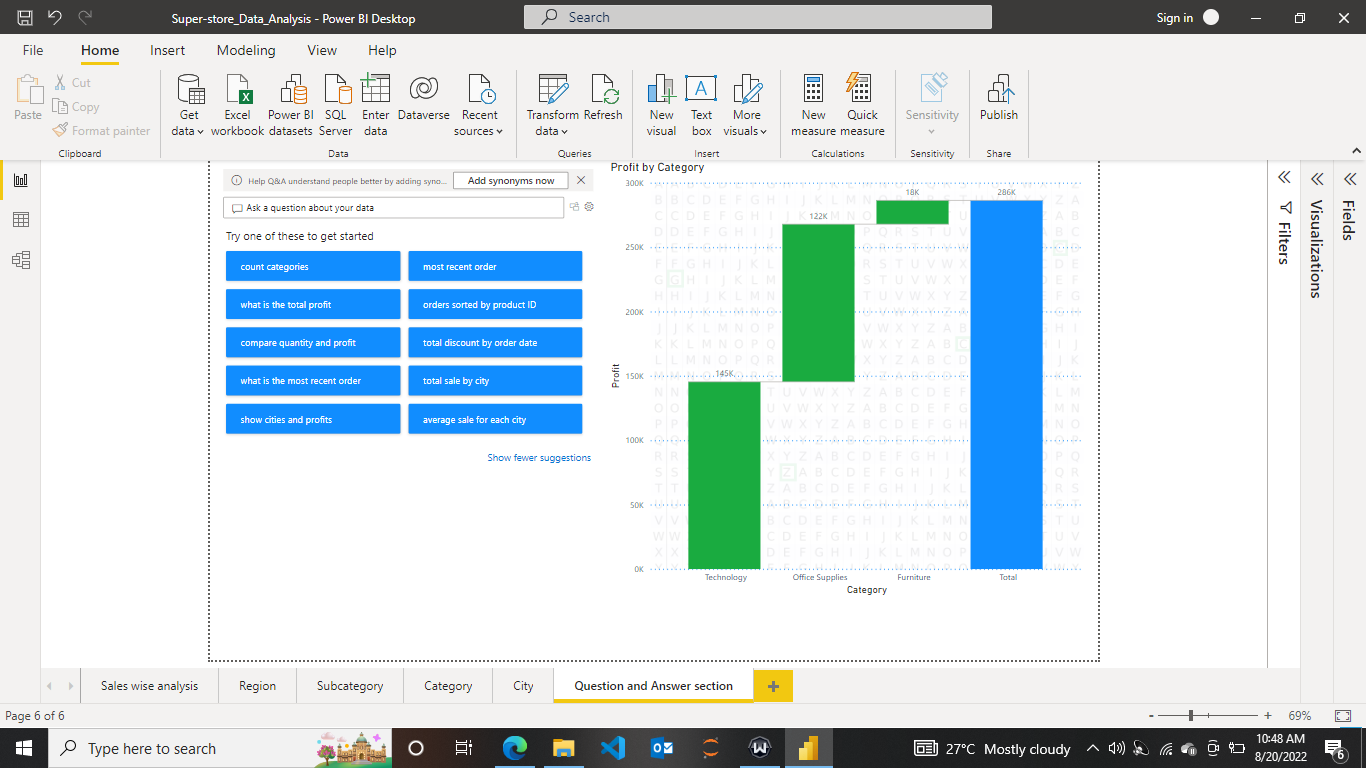

The page's visual inventory and layout, read from the dashboard file:
{"tool":"powerbi","page":{"name":"Question and Answer section","canvas":[1280,720],"ordinal":5},"visuals":[{"type":"qnaVisual","box":[10.3,0,551.5,632.4],"z":0},{"type":"waterfallChart","fields":{"Category":["Orders.Sub-Category"],"Y":["Sum(Orders.Quantity)"]},"box":[571.7,0,691.2,632.2],"z":1}]}

Visuals, with their boxes on the page's 1280x720 design canvas (x1, y1, x2, y2). These are canvas units, not pixel positions in the 1366x768 screenshot, which may show the page scaled, cropped or inside an application window:
qnaVisual: x1=10, y1=0, x2=562, y2=632
waterfallChart - Orders.Sub-Category x Sum(Orders.Quantity): x1=572, y1=0, x2=1263, y2=632
